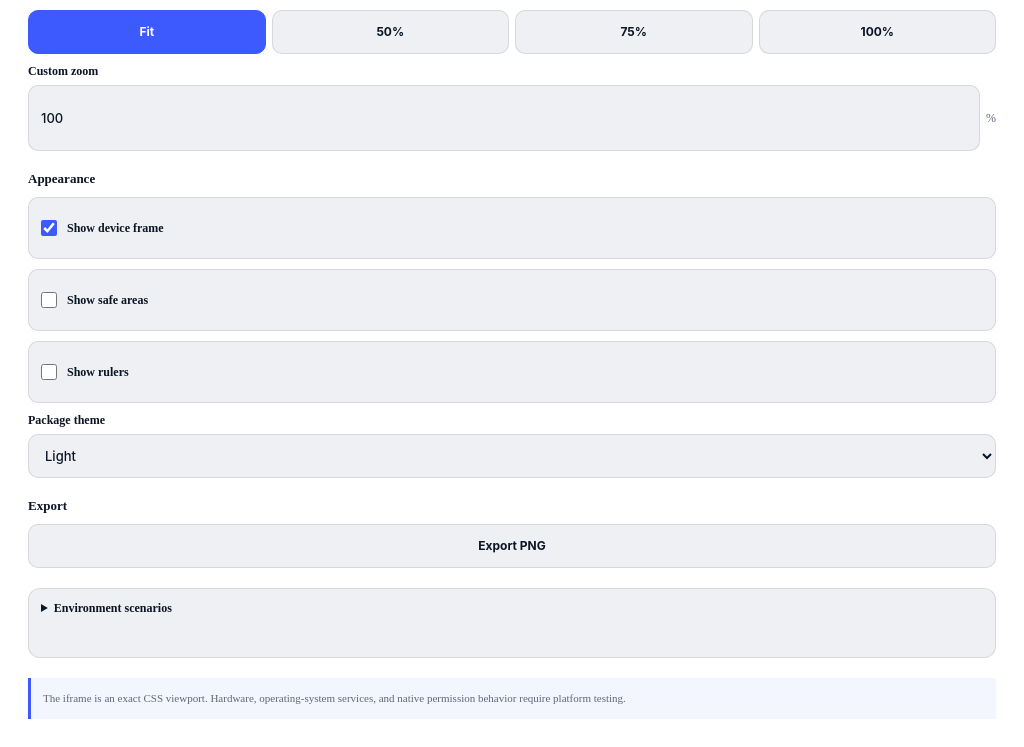
PreviewConfigurationPanel PNG export › surfaces a typed export failure as inline text
(page scrolled)
Click the button "Export PNG" at (512, 546), box [28,524,996,568]
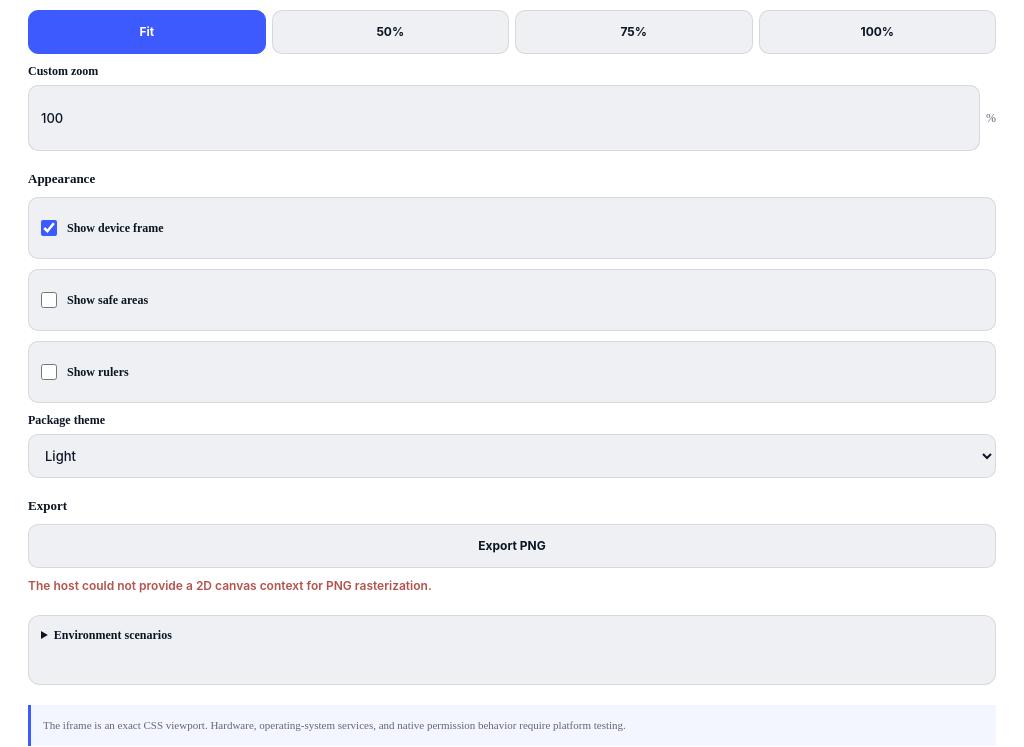
Expected: the message reads "The host could not provide a 2D canvas context for PNG rasterization.", [28,578,432,593]
